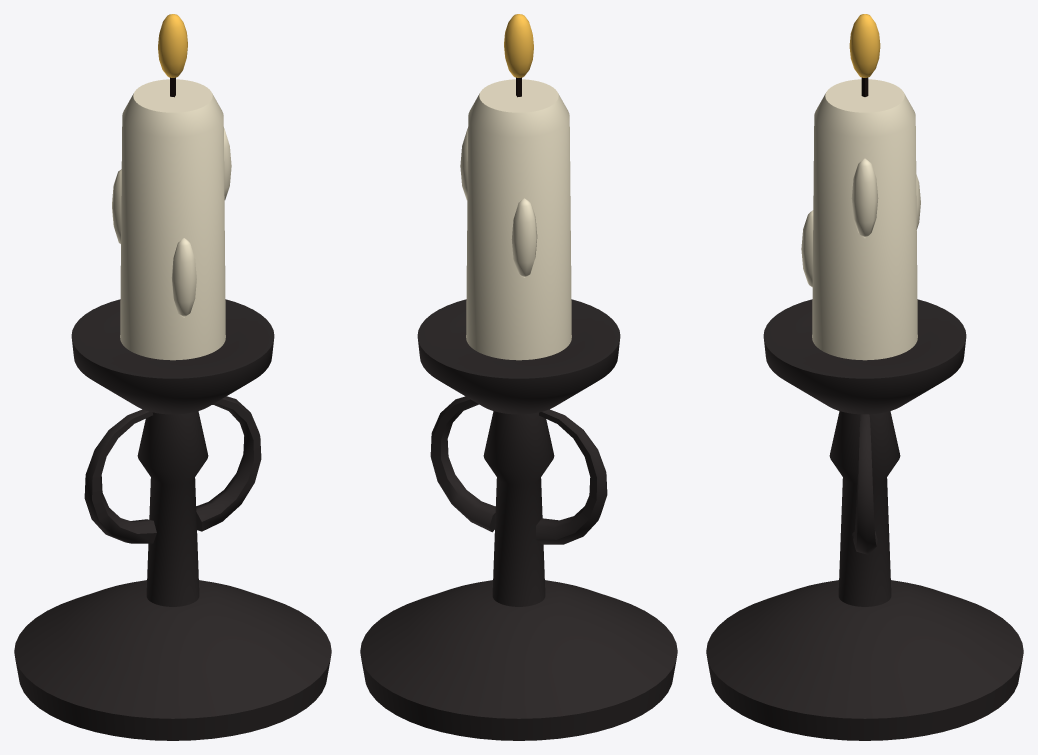
File: PR_Candlestick.fbx
3 views of the same model, side by side, from view 1: azimuth 30°, elevation 25°; view 2: azimuth 150°, elevation 25°; view 3: azimuth 270°, elevation 25° (orthographic).
Parts seen in each view (by area): view 1: PR_Candlestick_Iron, PR_Candlestick_Wax, PR_Candlestick_Flame; view 2: PR_Candlestick_Iron, PR_Candlestick_Wax, PR_Candlestick_Flame; view 3: PR_Candlestick_Iron, PR_Candlestick_Wax, PR_Candlestick_Flame.
Part boxes in pixels (x1,y1,x2,y2): PR_Candlestick_Iron: [14, 299, 331, 740]; PR_Candlestick_Wax: [112, 79, 231, 360]; PR_Candlestick_Flame: [158, 14, 187, 77]; PR_Candlestick_Iron: [360, 299, 677, 740]; PR_Candlestick_Wax: [460, 79, 571, 360]; PR_Candlestick_Flame: [504, 14, 533, 77]; PR_Candlestick_Iron: [706, 299, 1023, 740]; PR_Candlestick_Wax: [801, 79, 920, 360]; PR_Candlestick_Flame: [849, 14, 880, 77].
Bounding box in the file's own units: 0.144 × 0.331 × 0.144.
